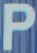Parking: (2, 0, 36, 51)
